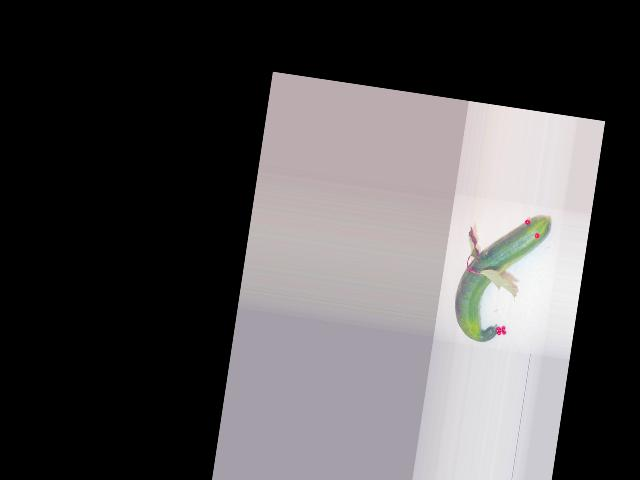cucumber: (449, 205, 552, 350)
